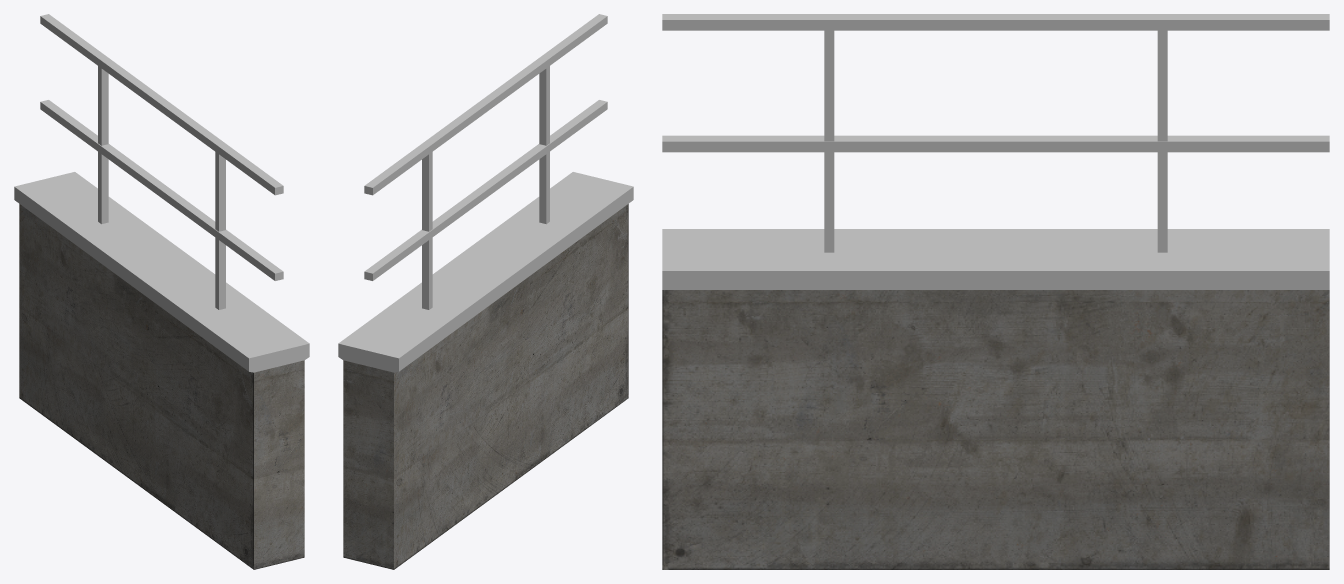
The model's file is CP_Parapet_A_2m.fbx.
The picture shows the model from 3 angles, left to right: view 1: azimuth 30°, elevation 25°; view 2: azimuth 150°, elevation 25°; view 3: azimuth 270°, elevation 25°; orthographic projection. The views are drawn at different scales.
Visible parts, largest first — view 1: CP_Parapet_A_2m; view 2: CP_Parapet_A_2m; view 3: CP_Parapet_A_2m.
Part boxes in pixels (x1,y1,x2,y2): CP_Parapet_A_2m: (14, 14, 309, 569); CP_Parapet_A_2m: (338, 14, 633, 569); CP_Parapet_A_2m: (662, 14, 1329, 569).
Bounding box in the file's own units: 29.88 × 177 × 200.
